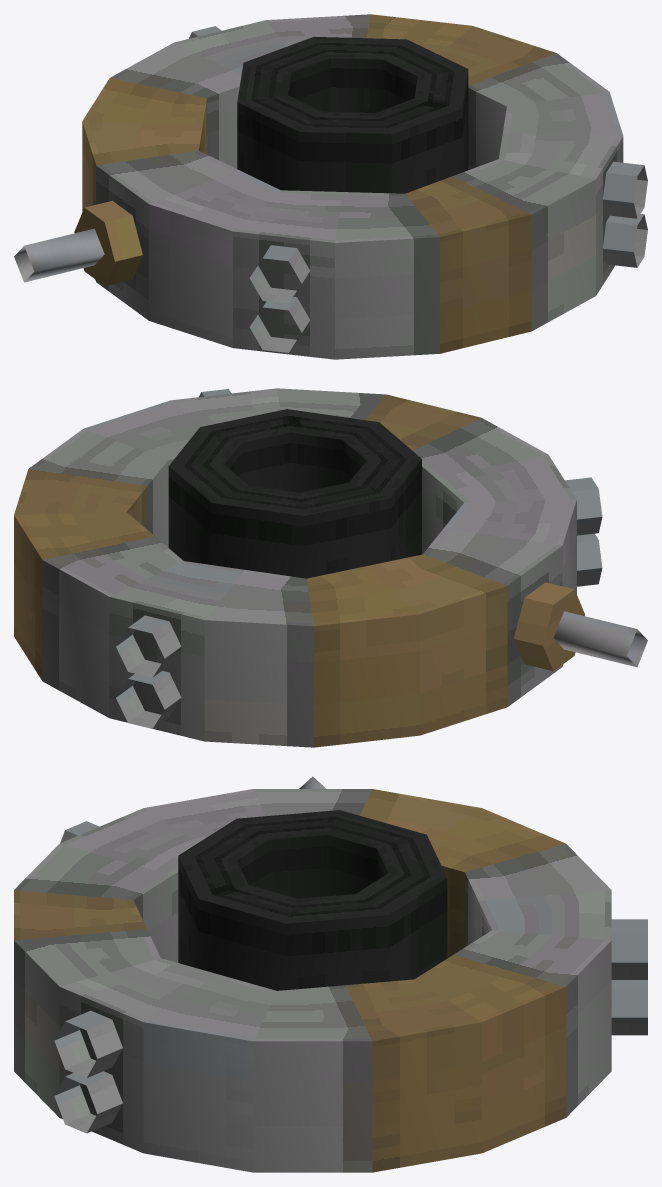
File: ship_component_droidinterface_s01_l2.fbx
3 renders of one model, top to bottom at view 1: azimuth 30°, elevation 25°; view 2: azimuth 150°, elevation 25°; view 3: azimuth 270°, elevation 25°, orthographic. The views are drawn at different scales.
Parts seen in each view (by area): view 1: mesh_node; view 2: mesh_node; view 3: mesh_node.
Boxes of the visible parts, x1,y1,x2,y2 form: mesh_node: [14, 14, 647, 359]; mesh_node: [14, 388, 647, 747]; mesh_node: [14, 776, 647, 1172].
Size of the model in its own units: 0.4762 by 0.13 by 0.4162.
1 material, 1 textured.
